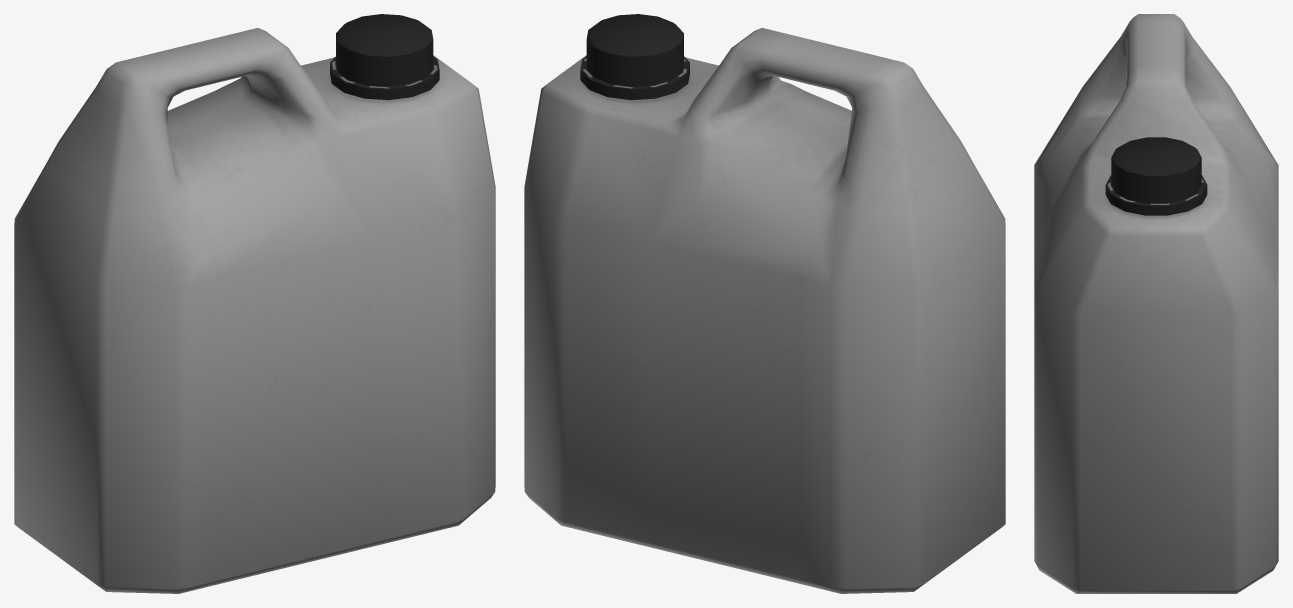
File: PlasticCanister.fbx
The picture shows the model from 3 angles, left to right: view 1: azimuth 30°, elevation 25°; view 2: azimuth 150°, elevation 25°; view 3: azimuth 270°, elevation 25°; orthographic projection. The views are drawn at different scales.
Visible parts, largest first — view 1: PlasticCanister; view 2: PlasticCanister; view 3: PlasticCanister.
Boxes of the visible parts, x1,y1,x2,y2 form: PlasticCanister: (14, 14, 495, 593); PlasticCanister: (524, 14, 1005, 593); PlasticCanister: (1034, 14, 1278, 593).
Bounding box in the file's own units: 39.03 × 44.45 × 22.6.
1 material, 1 textured.
